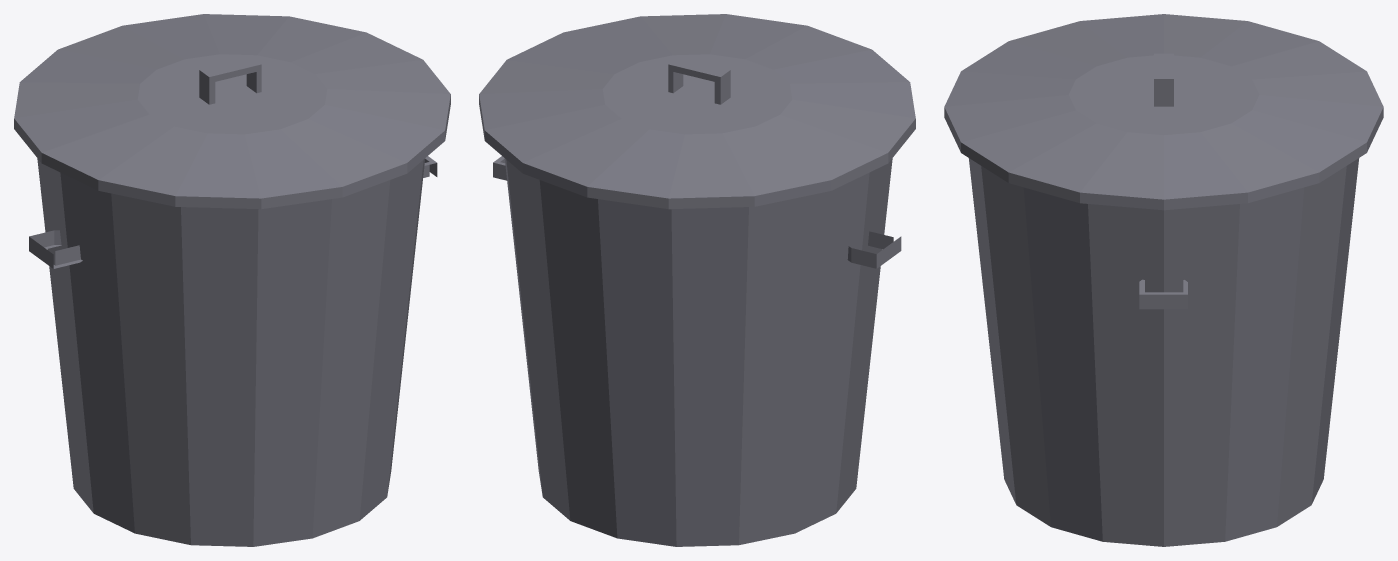
The model's file is garbagecan.fbx.
The picture shows the model from 3 angles, left to right: view 1: azimuth 30°, elevation 25°; view 2: azimuth 150°, elevation 25°; view 3: azimuth 270°, elevation 25°; orthographic projection.
Visible parts, largest first — view 1: Cylinder; view 2: Cylinder; view 3: Cylinder.
Boxes of the visible parts, left/top/right/bottom form: Cylinder: left=14, top=14, right=450, bottom=546; Cylinder: left=479, top=14, right=915, bottom=546; Cylinder: left=944, top=14, right=1383, bottom=546.
Bounding box in the file's own units: 221 × 228 × 220.
1 material, 1 textured.
